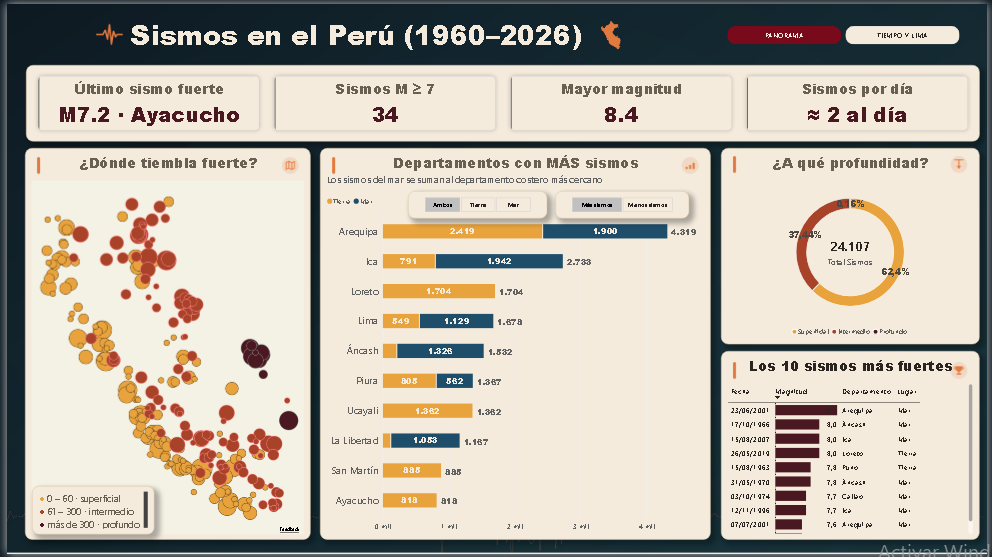

This screenshot's page, from the dashboard's own definition file:
{"tool":"powerbi","page":{"name":"PANORAMA","canvas":[1920,1080],"ordinal":0},"visuals":[{"type":"cardVisual","fields":{"Data":["Medidas.Último sismo fuerte","Medidas.Sismos M ≥ 7","Medidas.Mayor magnitud","Medidas.Sismos por día"]},"box":[36.7,120,1870,150],"z":0},{"type":"azureMap","title":"¿Dónde tiembla fuerte?\t","fields":{"Series":["Sismos.TIPO_PROFUNDIDAD"],"Size":["Medidas.Magnitud Máxima"],"X":["Sismos.LONGITUD"],"Y":["Sismos.LATITUD"]},"box":[36,282,560,768],"z":1000},{"type":"barChart","fields":{"Category":["Sismos.Depto"],"Series":["Sismos.Lugar"],"Y":["Medidas.Total Sismos"]},"box":[614,282,766,768],"z":2000},{"type":"donutChart","title":"¿A qué profundidad?\t","fields":{"Category":["Sismos.Tipo de profundidad"],"Y":["Medidas.Total Sismos"]},"box":[1400,281.7,506.7,385],"z":4000},{"type":"slicer","fields":{"Values":["Vista Ranking.Vista"]},"box":[1073.8,366.2,262.5,53.8],"z":4500},{"type":"tableEx","title":"Los 10 sismos más fuertes\t","fields":{"Values":["Sismos.Fecha","Sismos.MAGNITUD","Sismos.Depto","Sismos.Lugar"]},"box":[1400,680,506.7,370],"z":5000},{"type":"textbox","box":[36,12,1300,96],"z":6000},{"type":"pageNavigator","box":[1400,34,480,56],"z":7000},{"type":"textbox","box":[48.8,944.2,239.7,95],"z":8000},{"type":"slicer","fields":{"Values":["Filtro Lugar.Ver"]},"box":[786.2,366.2,272.5,53.8],"z":9500},{"type":"image","box":[160,20,80,80],"z":9501},{"type":"image","box":[1150,15,66,90],"z":9502},{"type":"image","box":[36,282,560,60],"z":9503},{"type":"image","box":[614,282,766,60],"z":9504},{"type":"image","box":[1400,281,506,60],"z":9505},{"type":"image","box":[1400,684,506,60],"z":9506}]}

Visuals, with their boxes in screenshot pixels (x1, y1, x2, y2), scaled from the page's 1920x1080 canvas onto the 992x557 screenshot:
cardVisual - Medidas.Último sismo fuerte x Medidas.Sismos M ≥ 7: {"x1": 19, "y1": 62, "x2": 985, "y2": 139}
"¿Dónde tiembla fuerte?	" azureMap: {"x1": 19, "y1": 145, "x2": 308, "y2": 542}
barChart - Sismos.Depto x Sismos.Lugar: {"x1": 317, "y1": 145, "x2": 713, "y2": 542}
"¿A qué profundidad?	" donutChart: {"x1": 723, "y1": 145, "x2": 985, "y2": 344}
slicer - Vista Ranking.Vista: {"x1": 555, "y1": 189, "x2": 690, "y2": 217}
"Los 10 sismos más fuertes	" tableEx: {"x1": 723, "y1": 351, "x2": 985, "y2": 542}
textbox: {"x1": 19, "y1": 6, "x2": 690, "y2": 56}
pageNavigator: {"x1": 723, "y1": 18, "x2": 971, "y2": 46}
textbox: {"x1": 25, "y1": 487, "x2": 149, "y2": 536}
slicer - Filtro Lugar.Ver: {"x1": 406, "y1": 189, "x2": 547, "y2": 217}
image: {"x1": 83, "y1": 10, "x2": 124, "y2": 52}
image: {"x1": 594, "y1": 8, "x2": 628, "y2": 54}
image: {"x1": 19, "y1": 145, "x2": 308, "y2": 176}
image: {"x1": 317, "y1": 145, "x2": 713, "y2": 176}
image: {"x1": 723, "y1": 145, "x2": 985, "y2": 176}
image: {"x1": 723, "y1": 353, "x2": 985, "y2": 384}
